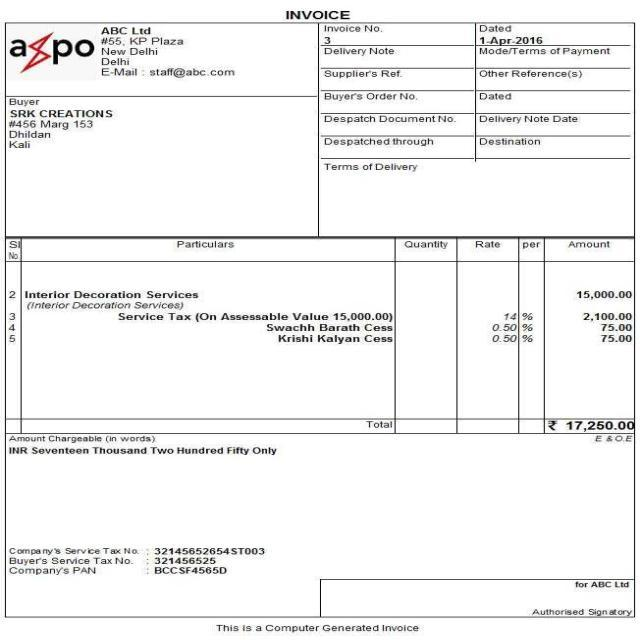ROI: (1, 236, 636, 385), (320, 24, 627, 178), (6, 545, 274, 578), (99, 24, 239, 79), (6, 432, 281, 460), (362, 418, 635, 444), (7, 96, 115, 150), (525, 577, 634, 620), (4, 29, 94, 71), (213, 619, 421, 636), (282, 6, 351, 21)
